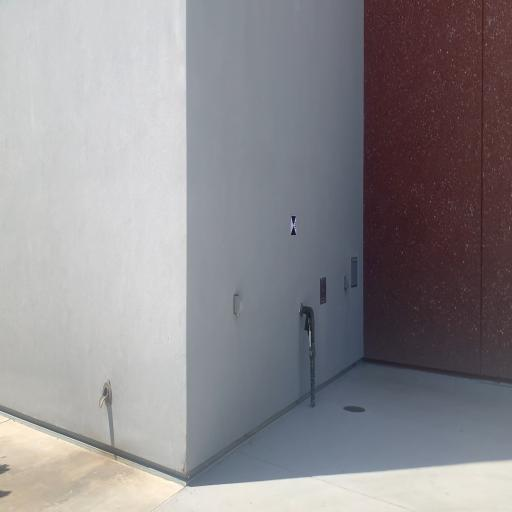target3: (290, 215, 297, 236)
